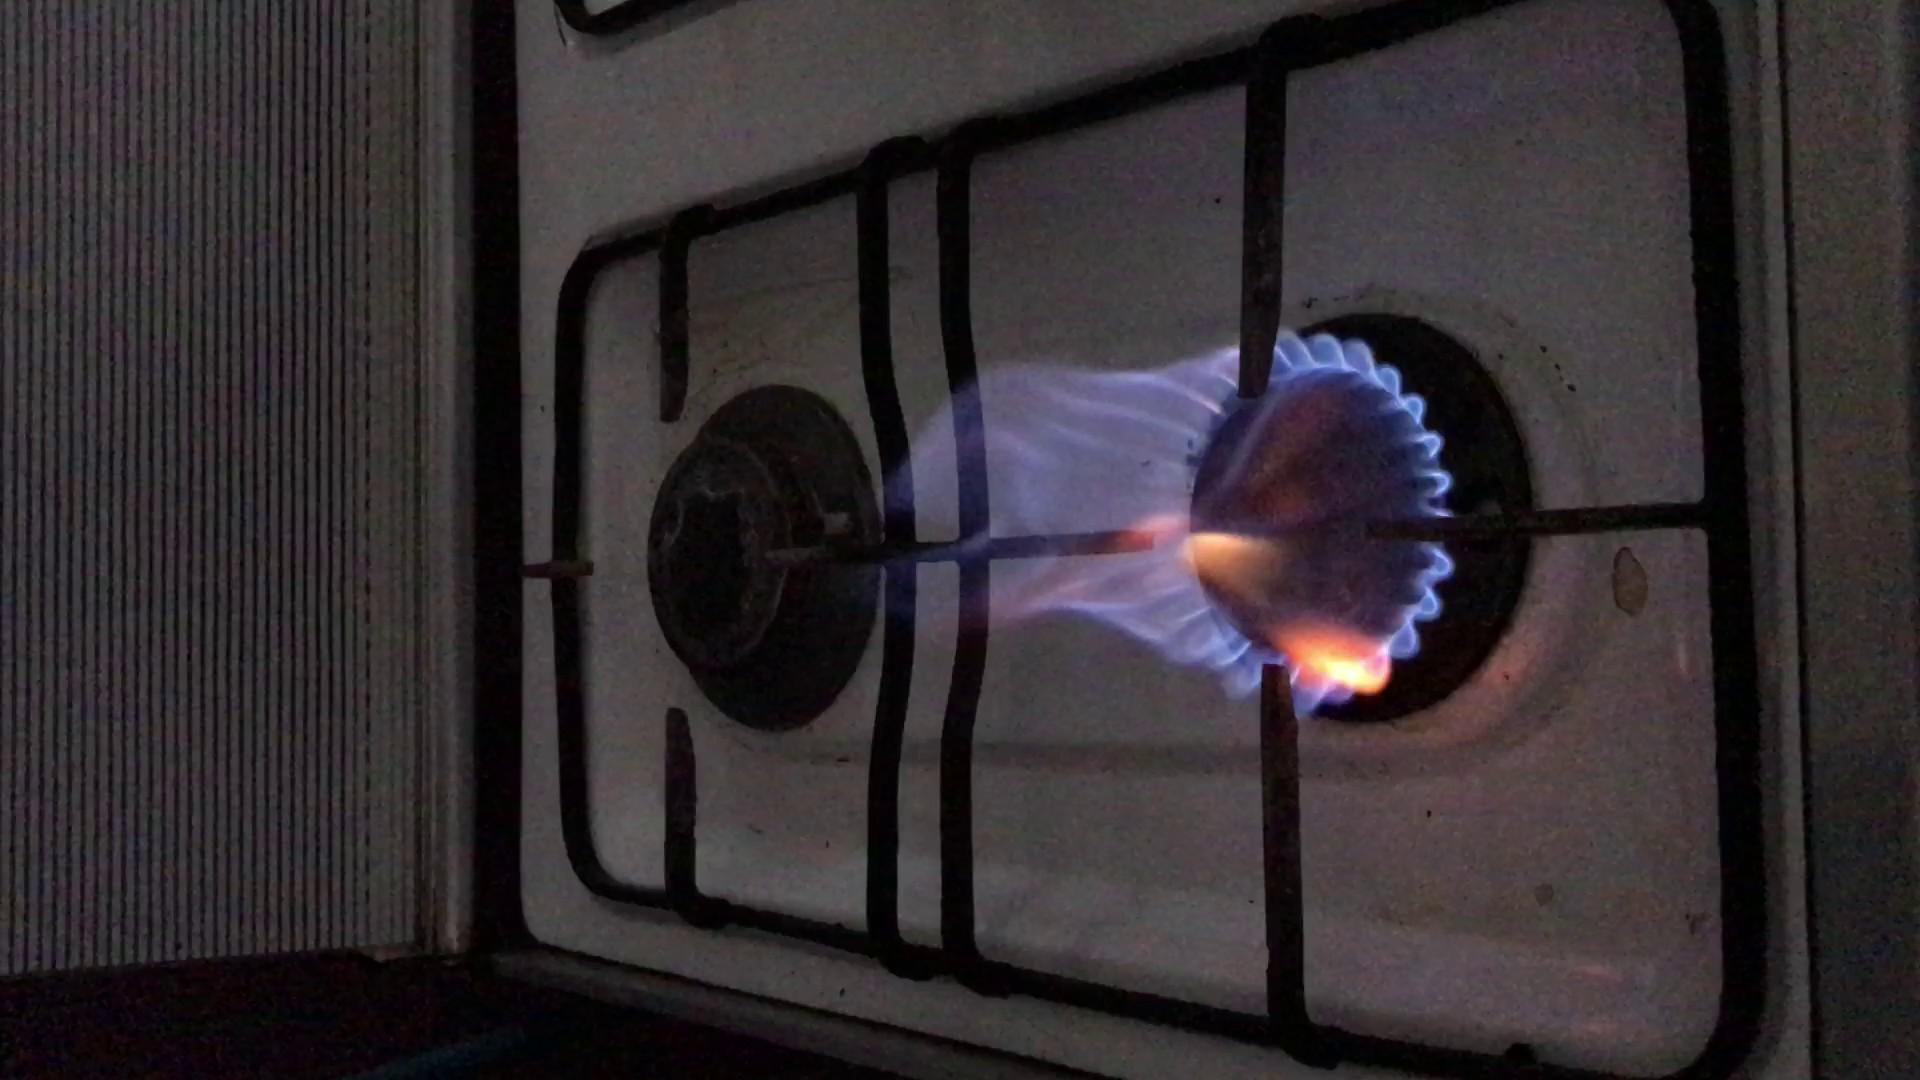fire: (982, 336, 1428, 698)
